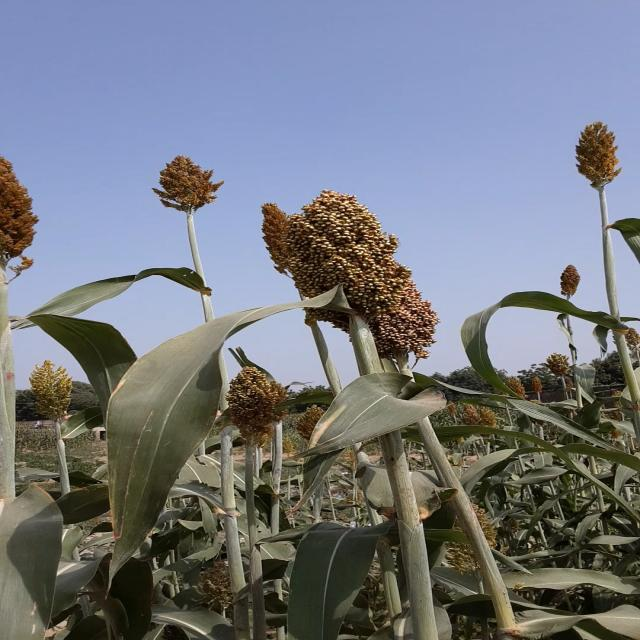UnripeSorghum: (261, 194, 460, 359), (204, 365, 331, 446)
